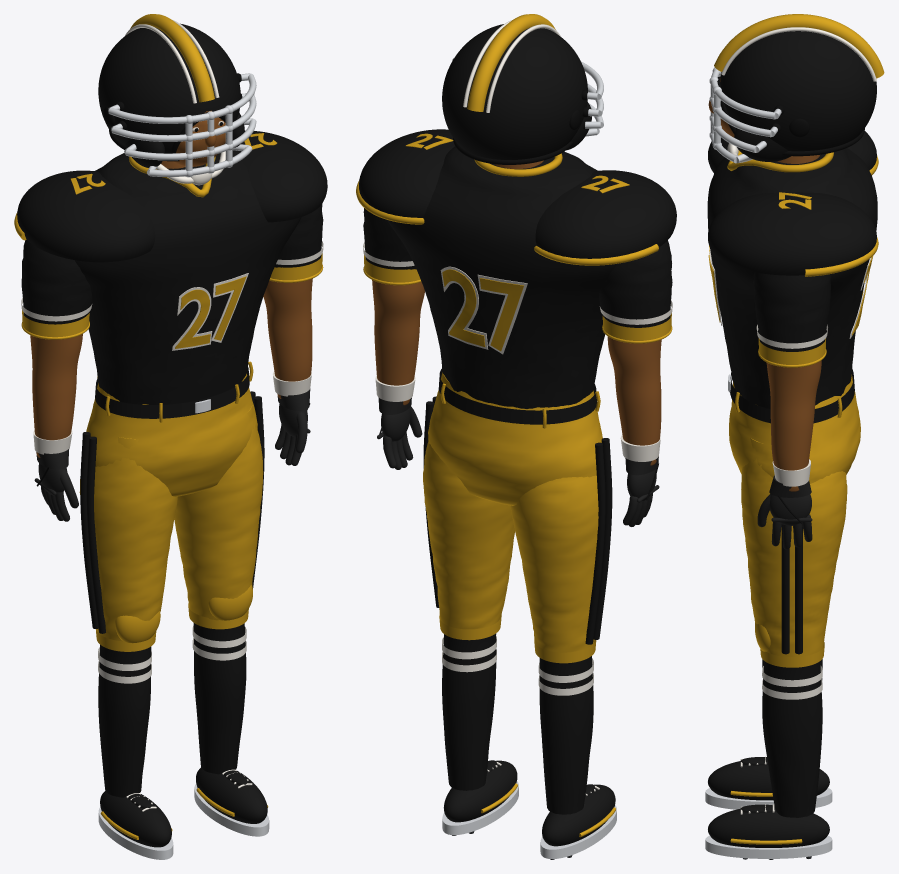
3 views of the same model, side by side, from view 1: azimuth 30°, elevation 25°; view 2: azimuth 150°, elevation 25°; view 3: azimuth 270°, elevation 25° (orthographic). The views are drawn at different scales.
Visible parts, largest first — view 1: player_L6; view 2: player_L6; view 3: player_L6.
Part boxes in pixels (x1,y1,x2,y2): player_L6: [14, 14, 327, 859]; player_L6: [356, 14, 676, 859]; player_L6: [705, 14, 884, 859].
Size of the model in its own units: 0.7341 by 1.91 by 0.3809.
